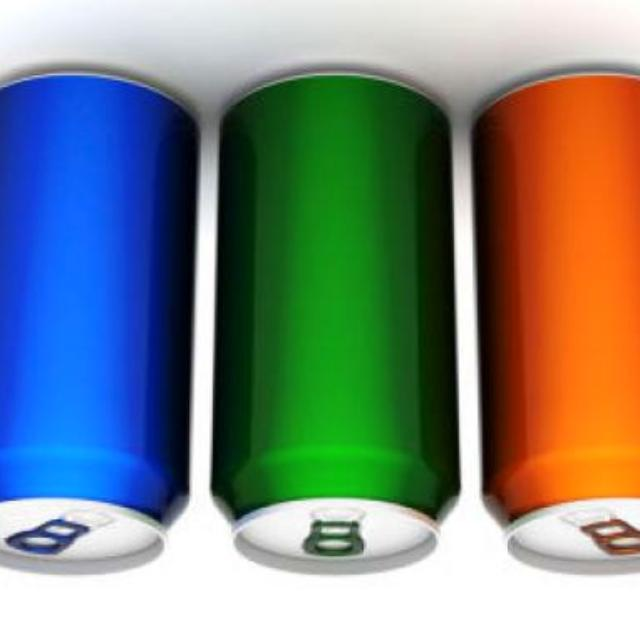metal: (209, 79, 456, 576), (0, 79, 194, 576), (472, 77, 640, 576)
